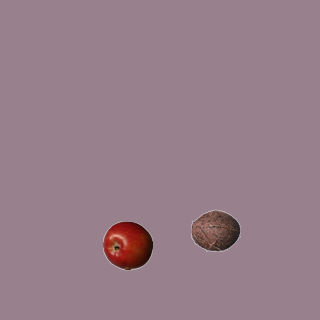Apple Braeburn: (102, 220, 152, 270)
Cocos: (190, 205, 240, 255)
